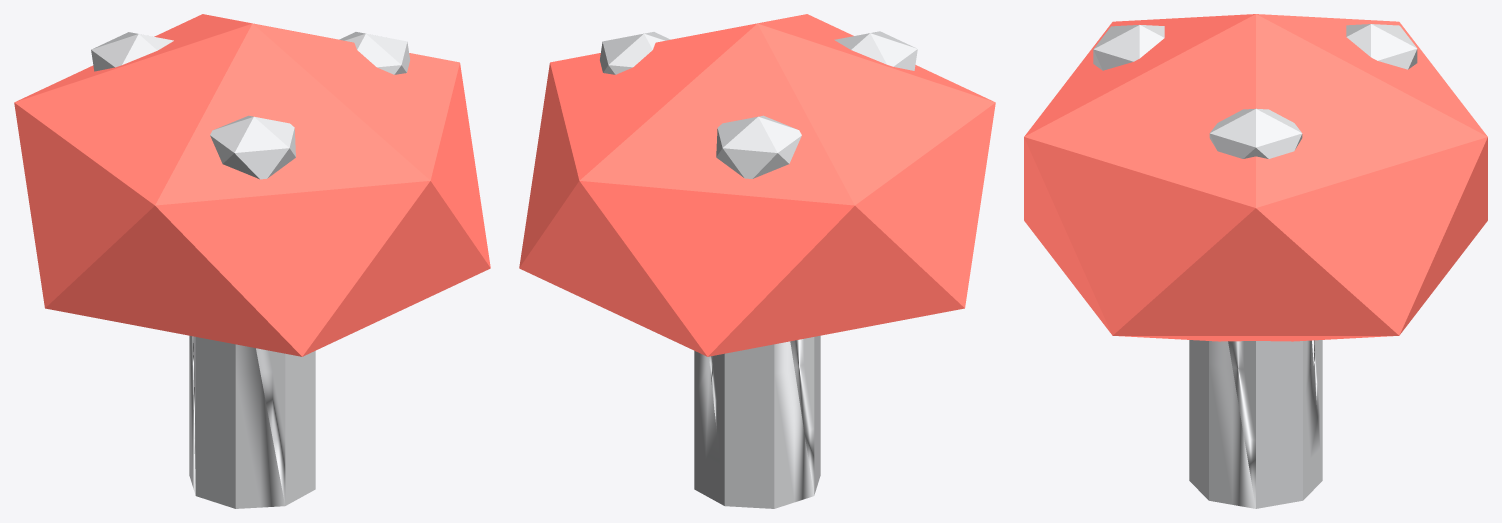
Rendered from mushroom.glb.
3 views of the same model, side by side, from view 1: azimuth 30°, elevation 25°; view 2: azimuth 150°, elevation 25°; view 3: azimuth 270°, elevation 25° (orthographic).
Parts seen in each view (by area): view 1: MushroomStem; view 2: MushroomStem; view 3: MushroomStem.
Boxes of the visible parts, x1=… form: MushroomStem: x1=14, y1=14, x2=490, y2=508; MushroomStem: x1=519, y1=14, x2=995, y2=508; MushroomStem: x1=1024, y1=14, x2=1487, y2=508.
Size of the model in its own units: 0.805 by 0.85 by 0.7656.
